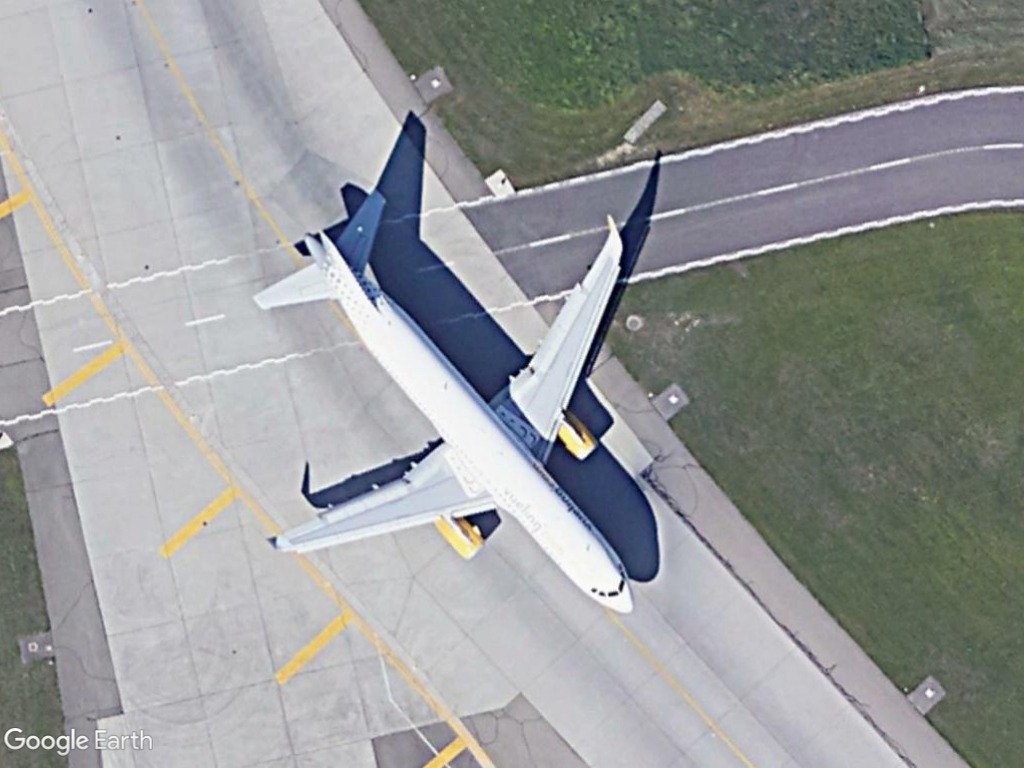airliner: (252, 186, 641, 620)
